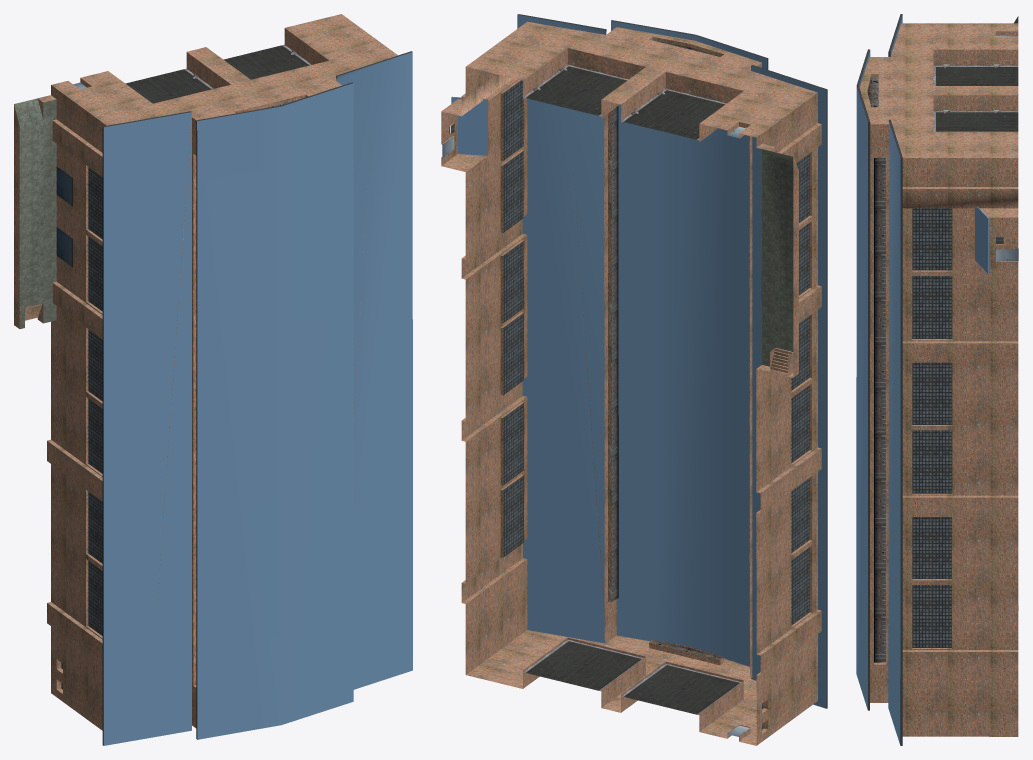
File: train_hall_1.fbx
3 renders of one model, left to right at view 1: azimuth 30°, elevation 25°; view 2: azimuth 150°, elevation 25°; view 3: azimuth 270°, elevation 25°, orthographic. The views are drawn at different scales.
Visible parts, largest first — view 1: MSH-Box01; view 2: MSH-Box01; view 3: MSH-Box01.
Boxes of the visible parts, x1,y1,x2,y2 form: MSH-Box01: (14, 14, 412, 745); MSH-Box01: (441, 14, 827, 745); MSH-Box01: (856, 14, 1018, 745).
Size of the model in its own units: 45.45 by 75.19 by 18.77.
